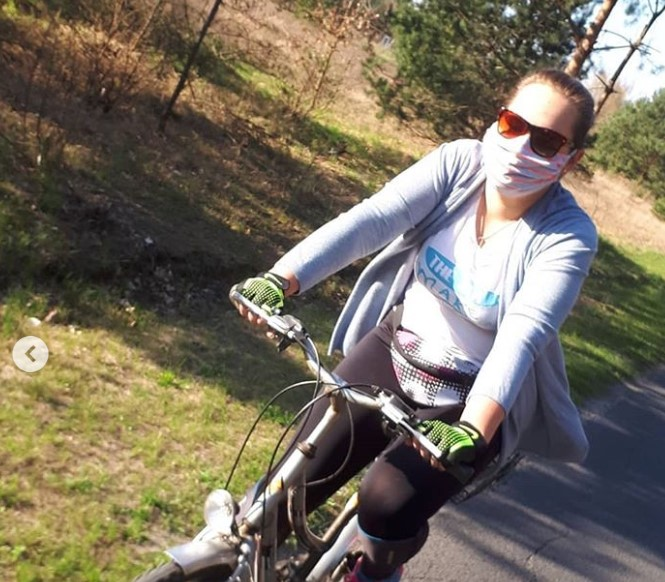face_with_mask: (478, 70, 595, 198)
